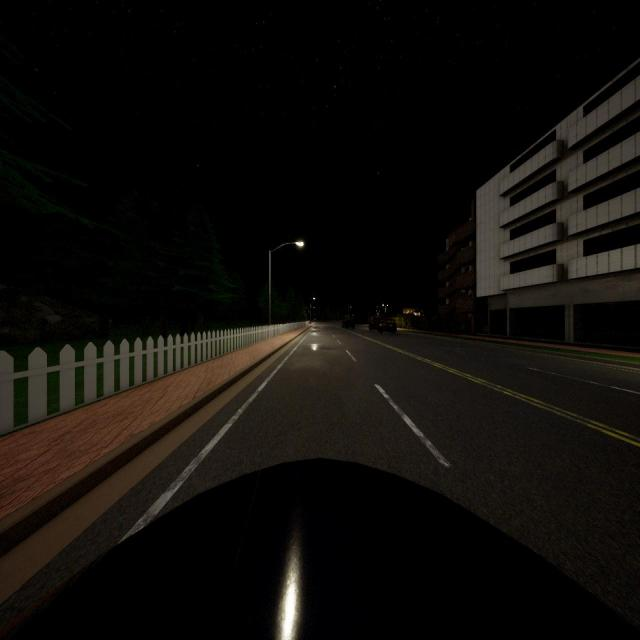Vehicle: (1, 460, 640, 640), (368, 315, 398, 333), (342, 318, 355, 330)
